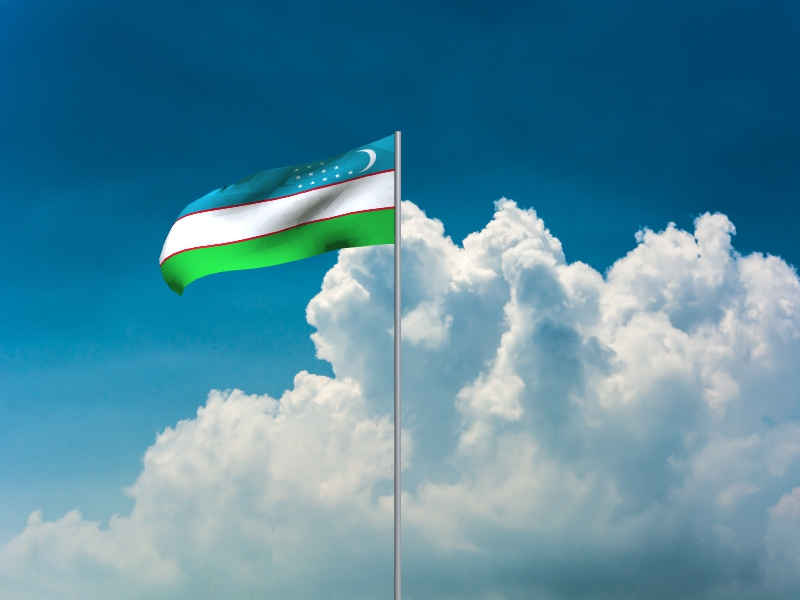uz: (159, 134, 394, 297)
